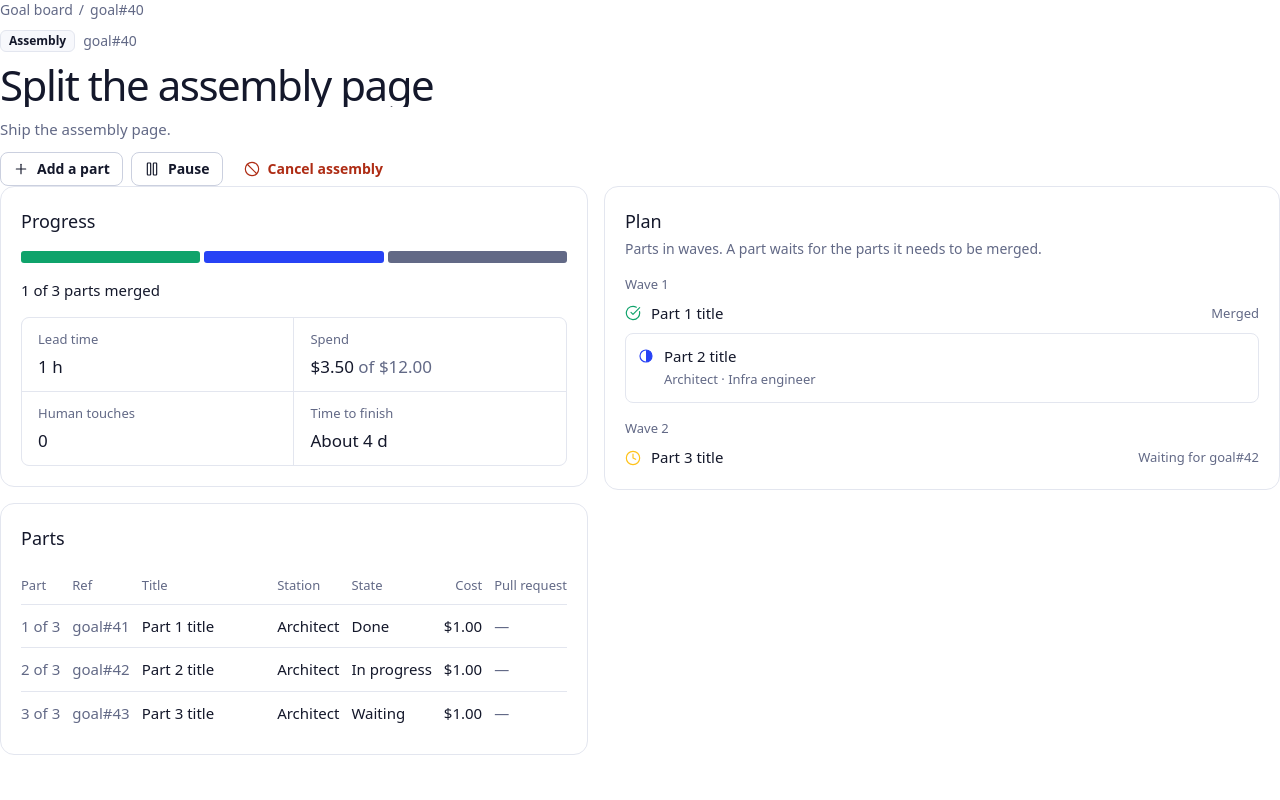
Scenario: Add a part dialog › shows a 409 refusal inline, keeps the dialog open and says nothing by toast
Expected: the heading "Split the assembly page" is shown, [0,56,433,113]
Click the button "Add a part".
click(61, 169)  # box [0,152,123,186]
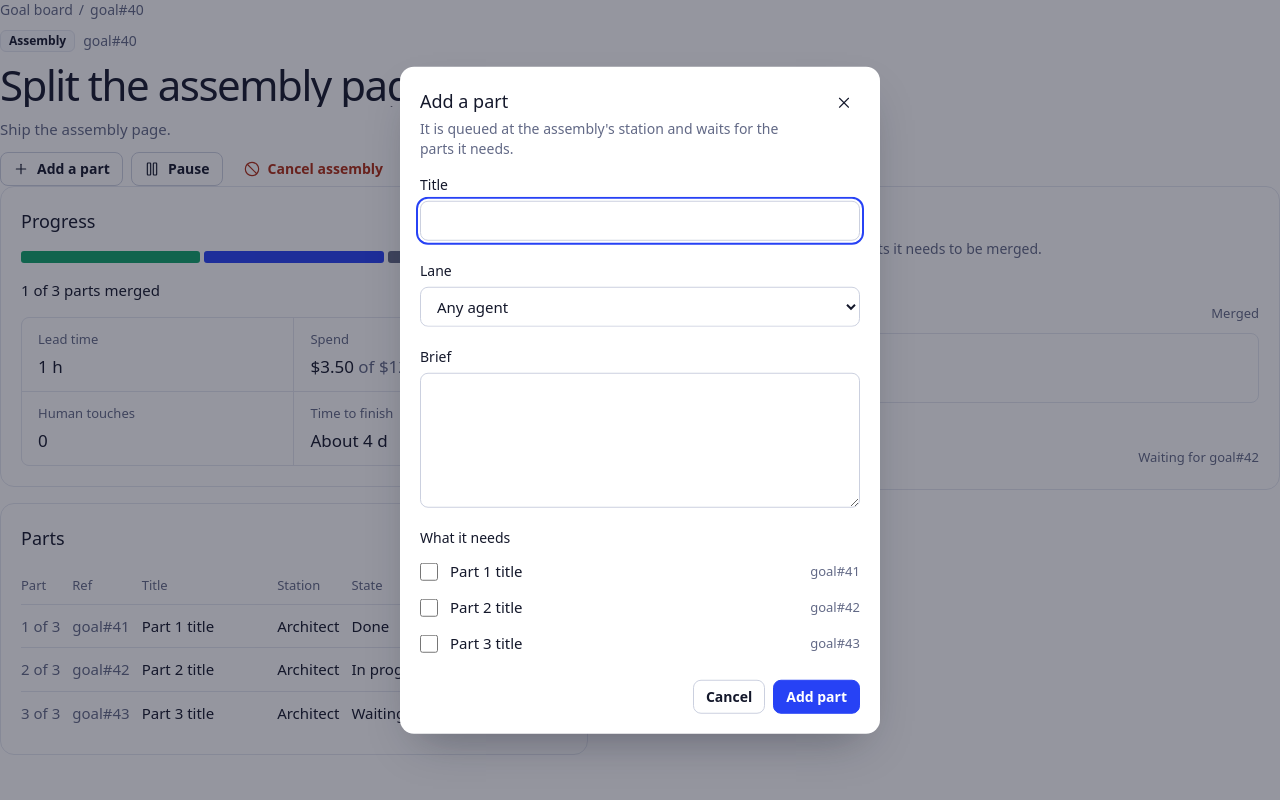
Type "Loop" into the field labelled "Title".
click(640, 221); type("Loop")  # box [420,201,860,241]
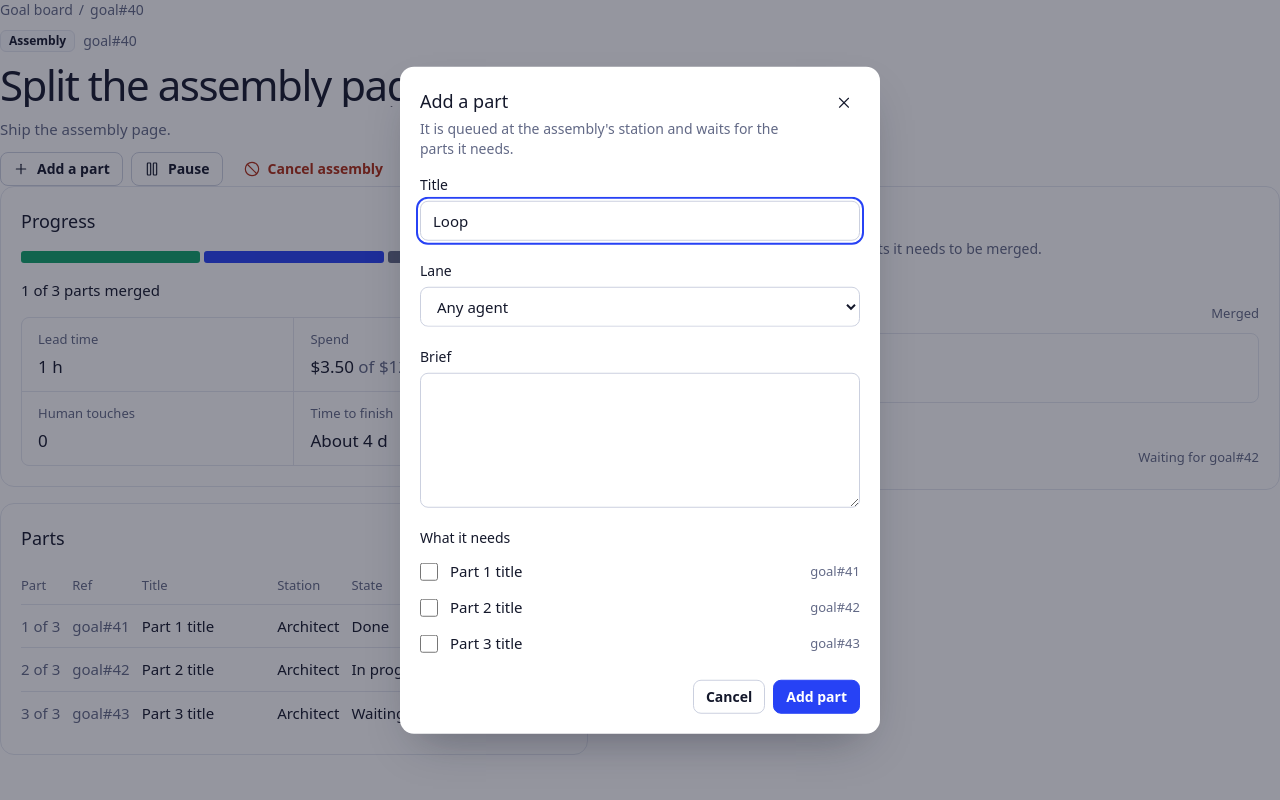
Type "Loops." into the text box labelled "Brief".
click(640, 440); type("Loops.")  # box [420,373,860,507]
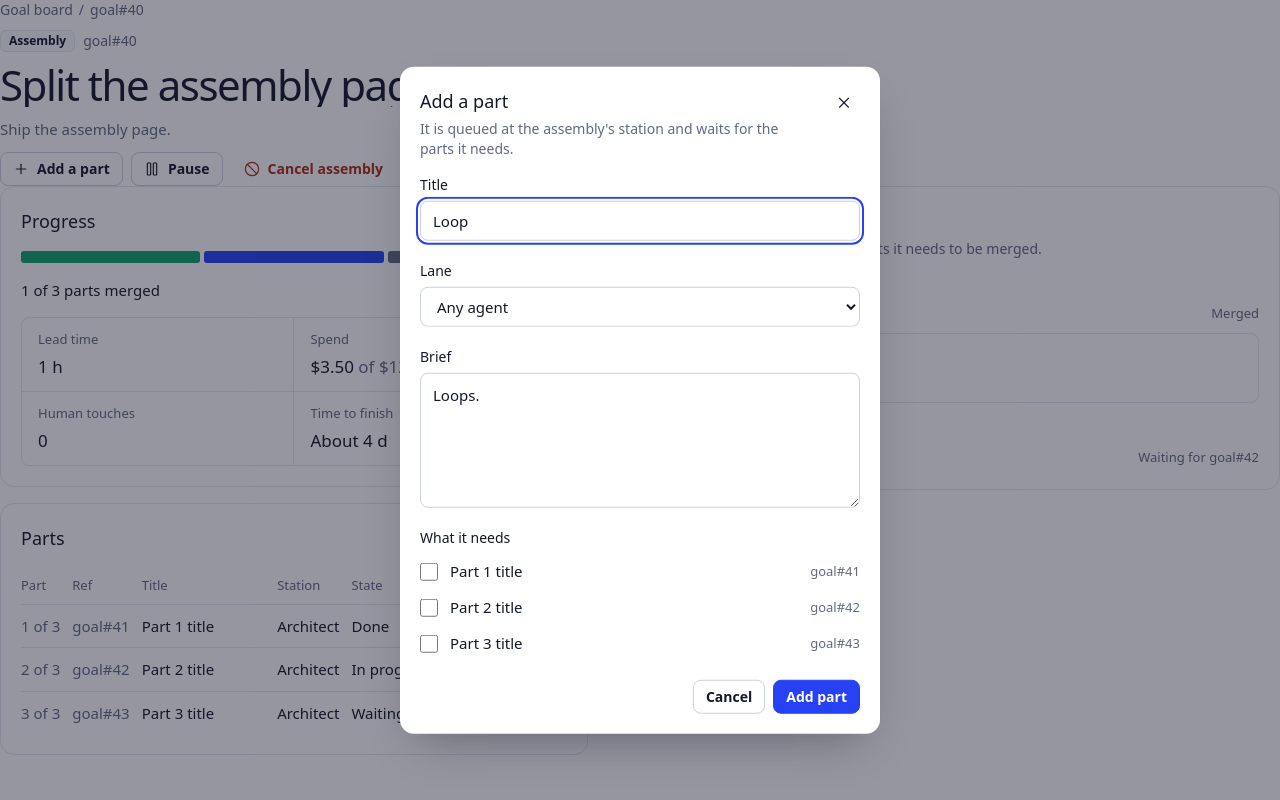
Click the button "Add part".
click(817, 696)  # box [773,679,860,713]
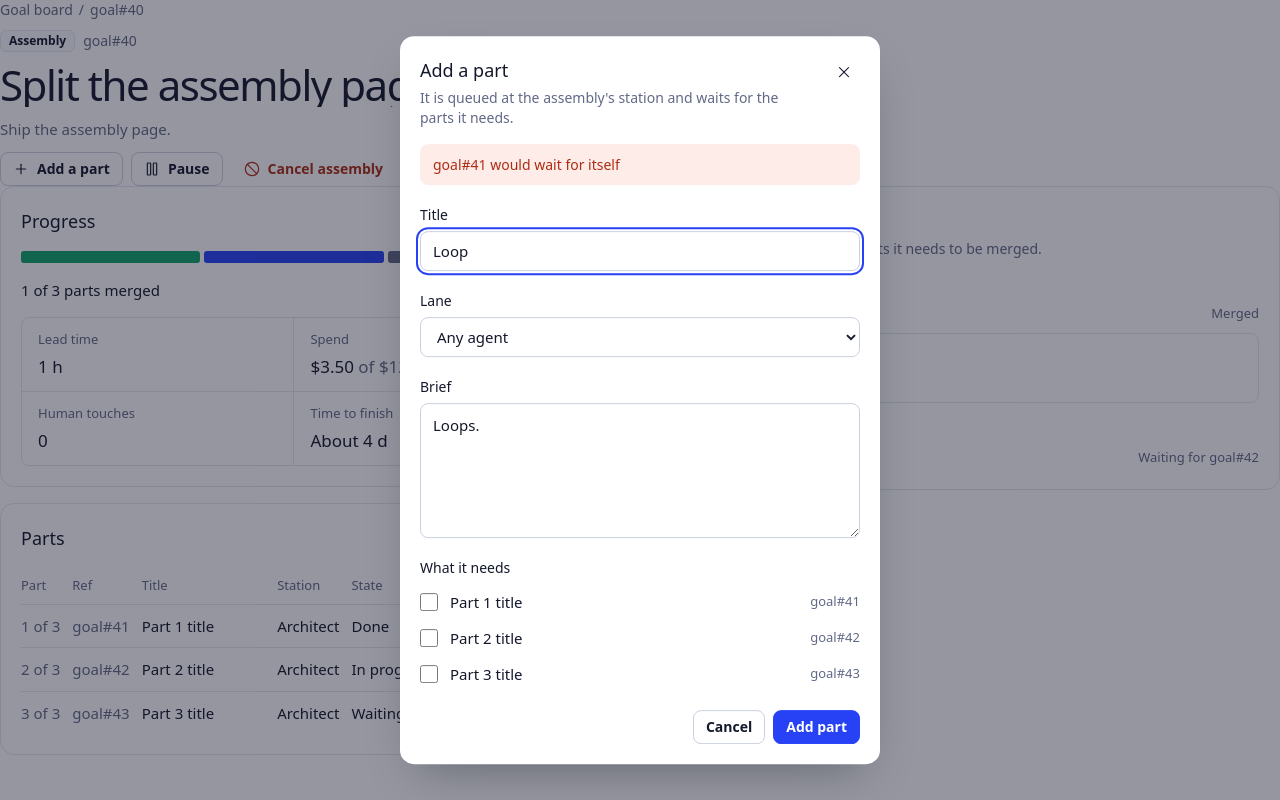
Now the dialog "Add a part" is shown, box [400,36,880,764]
Now the message reads "goal#41 would wait for itself", box [433,155,620,174]
